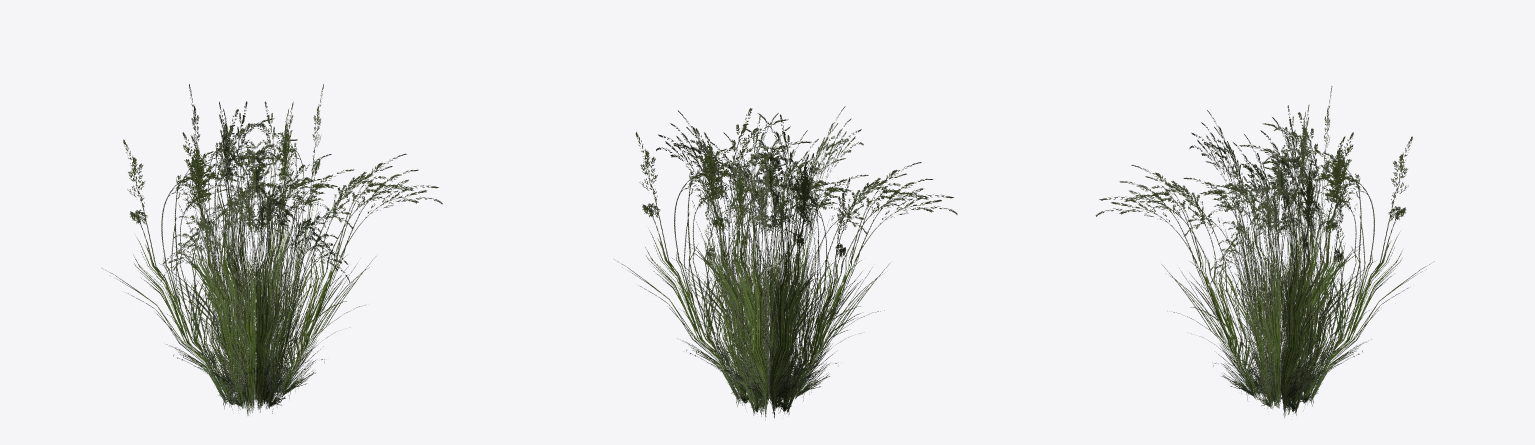
The model's file is _testGrass.fbx.
3 renders of one model, left to right at view 1: azimuth 30°, elevation 25°; view 2: azimuth 150°, elevation 25°; view 3: azimuth 270°, elevation 25°, orthographic.
Visible parts, largest first — view 1: Plane001; view 2: Plane001; view 3: Plane001.
Boxes of the visible parts, x1,y1,x2,y2 form: Plane001: (101,84,442,415); Plane001: (614,106,957,420); Plane001: (1095,86,1434,417).
Bounding box in the file's own units: 2.58 × 2 × 2.8.
